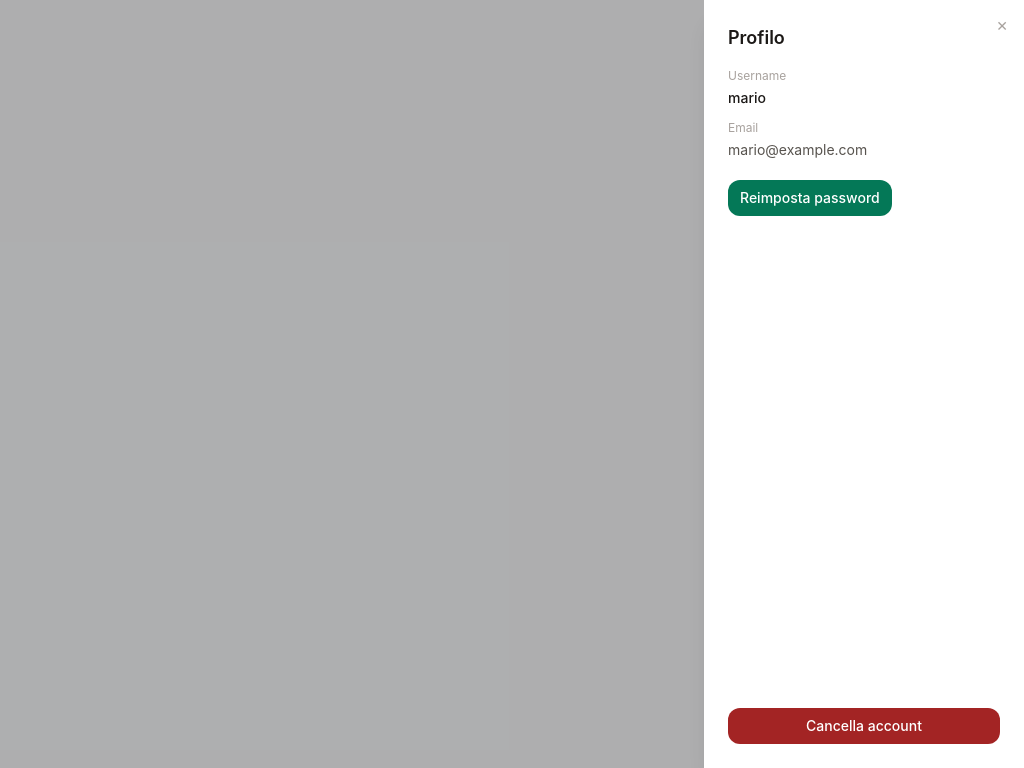
it: Profile – cancella account › chiude il dialog di cancellazione cliccando lo sfondo (backdrop riga 139)
This screenshot has width=1024, height=768.
Click the button "Cancella account". click: {"x": 864, "y": 726}
box: [728,708,1000,744]
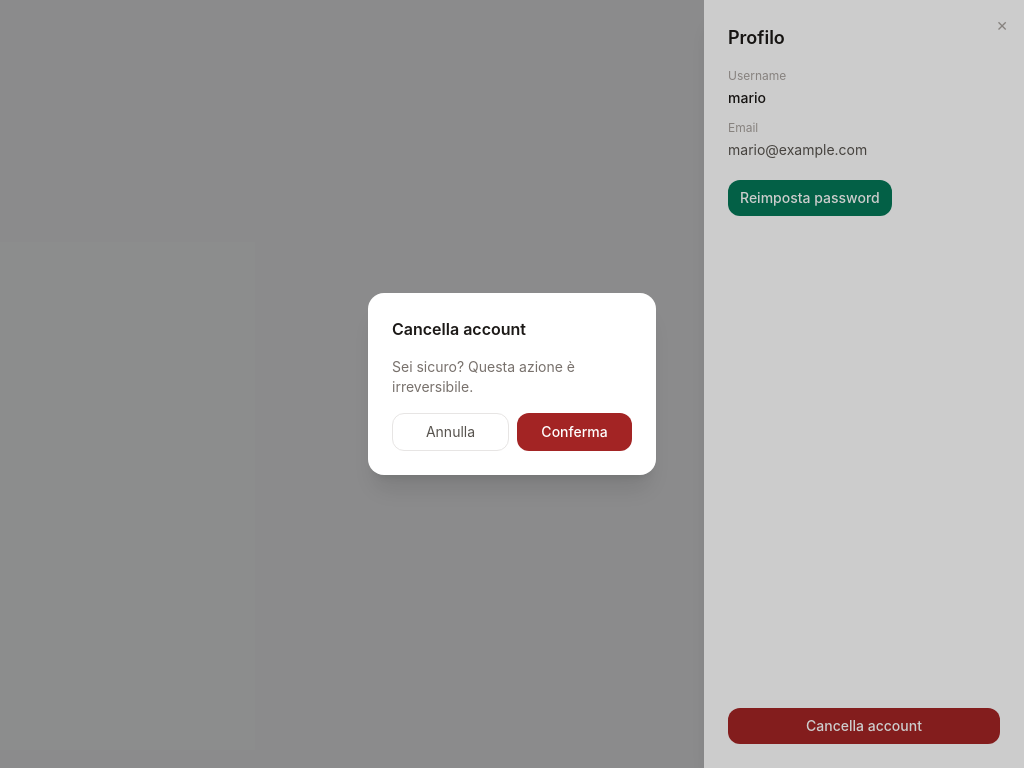
expect the text "Sei sicuro" is shown: met, box [392,358,575,395]
expect the 2nd button with class "inset-0" is shown: met
Click the 2nd button with class "inset-0". click: {"x": 61, "y": 384}
box: [0,0,1023,767]
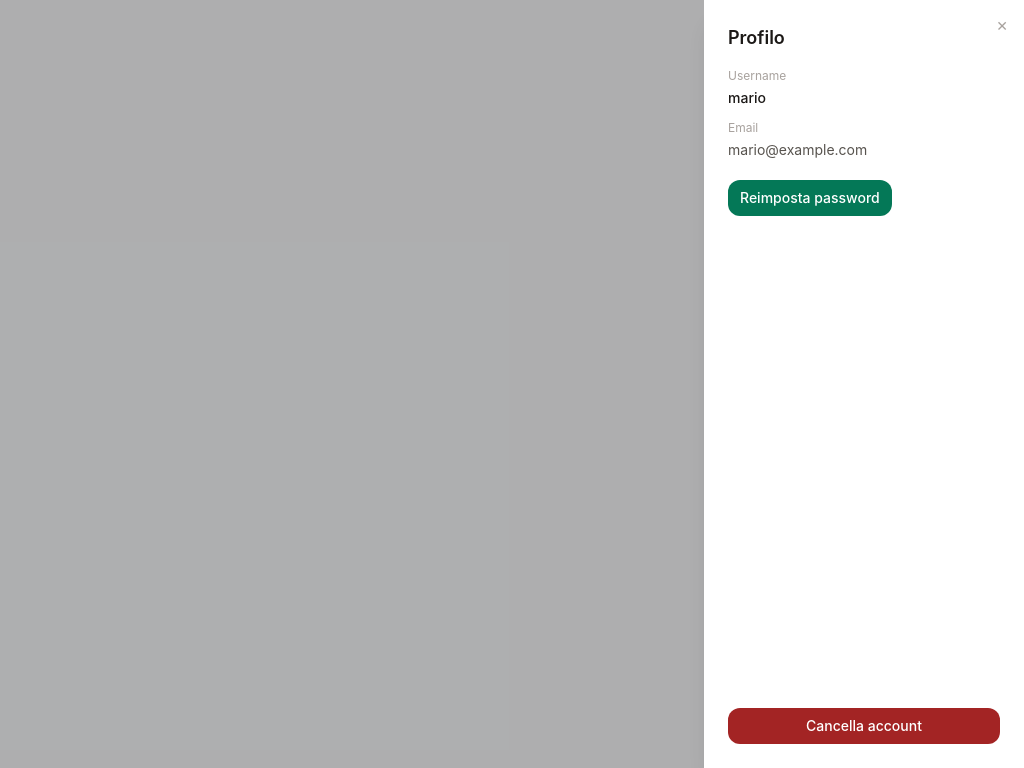
expect the text "Sei sicuro" is gone: met
